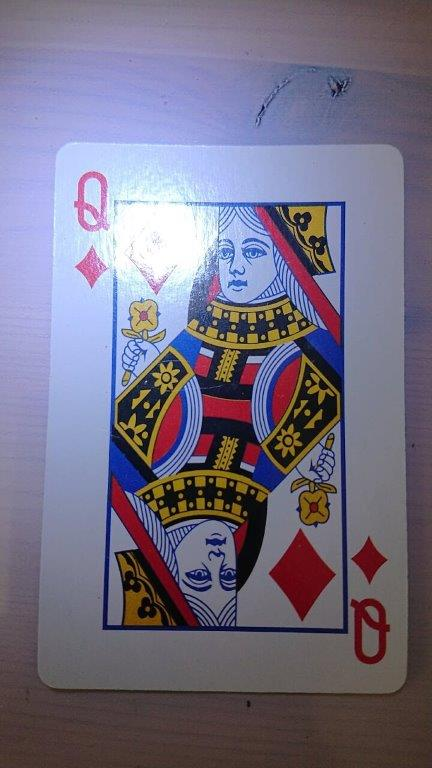QD: (35, 141, 410, 697)
